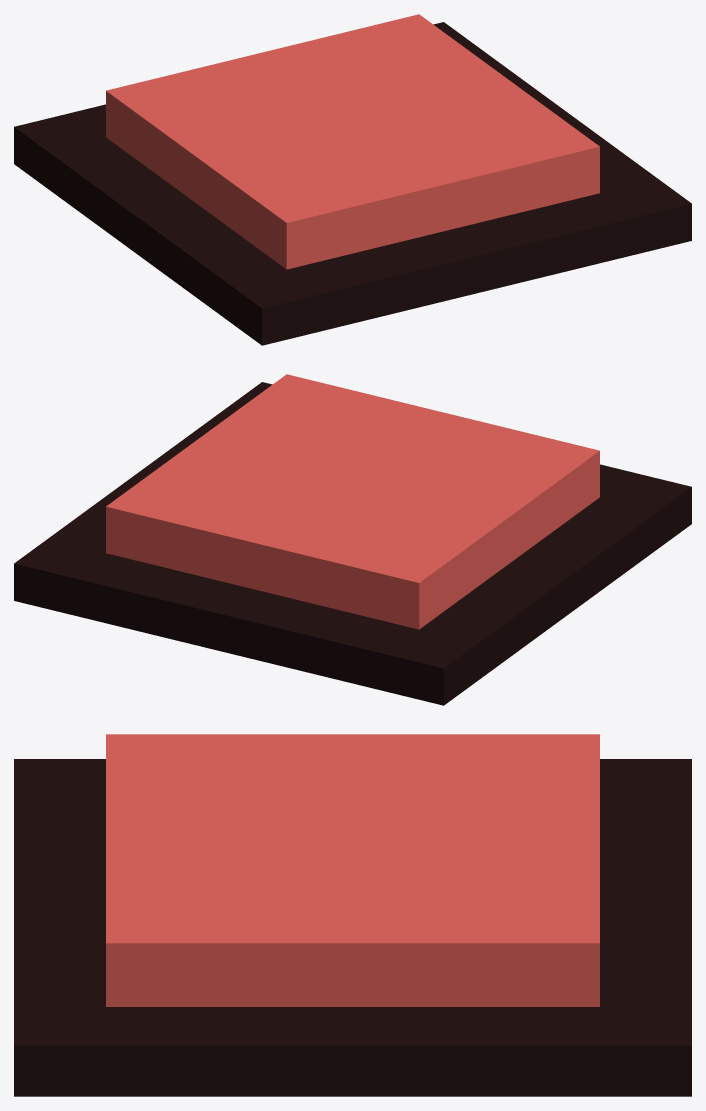
The model's file is boton.fbx.
The picture shows the model from 3 angles, top to bottom: view 1: azimuth 30°, elevation 25°; view 2: azimuth 150°, elevation 25°; view 3: azimuth 270°, elevation 25°; orthographic projection. The views are drawn at different scales.
Parts seen in each view (by area): view 1: boton, baseboton; view 2: boton, baseboton; view 3: boton, baseboton.
Boxes of the visible parts, bbox=[...] form: boton: bbox=[106, 14, 599, 269]; baseboton: bbox=[14, 22, 691, 345]; boton: bbox=[106, 374, 599, 629]; baseboton: bbox=[14, 382, 691, 705]; boton: bbox=[106, 734, 599, 1006]; baseboton: bbox=[14, 759, 691, 1096].
Size of the model in its own units: 200 by 37.27 by 200.
